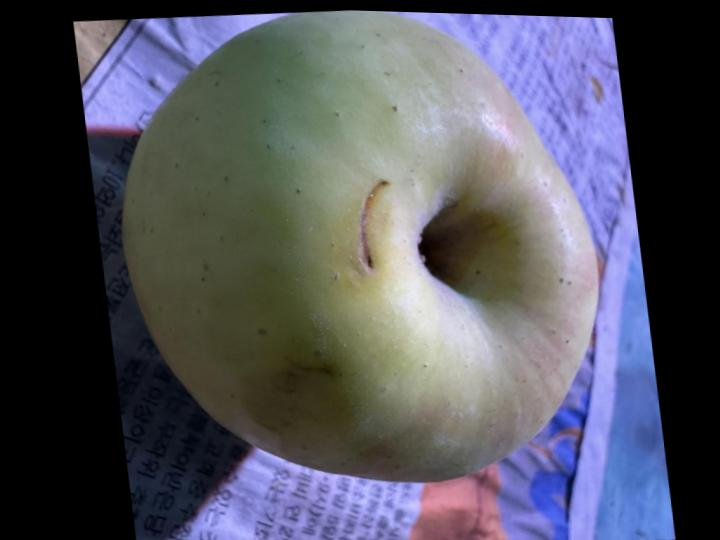apple: (123, 10, 597, 481)
surface_damage: (252, 348, 342, 438), (353, 174, 390, 278)
